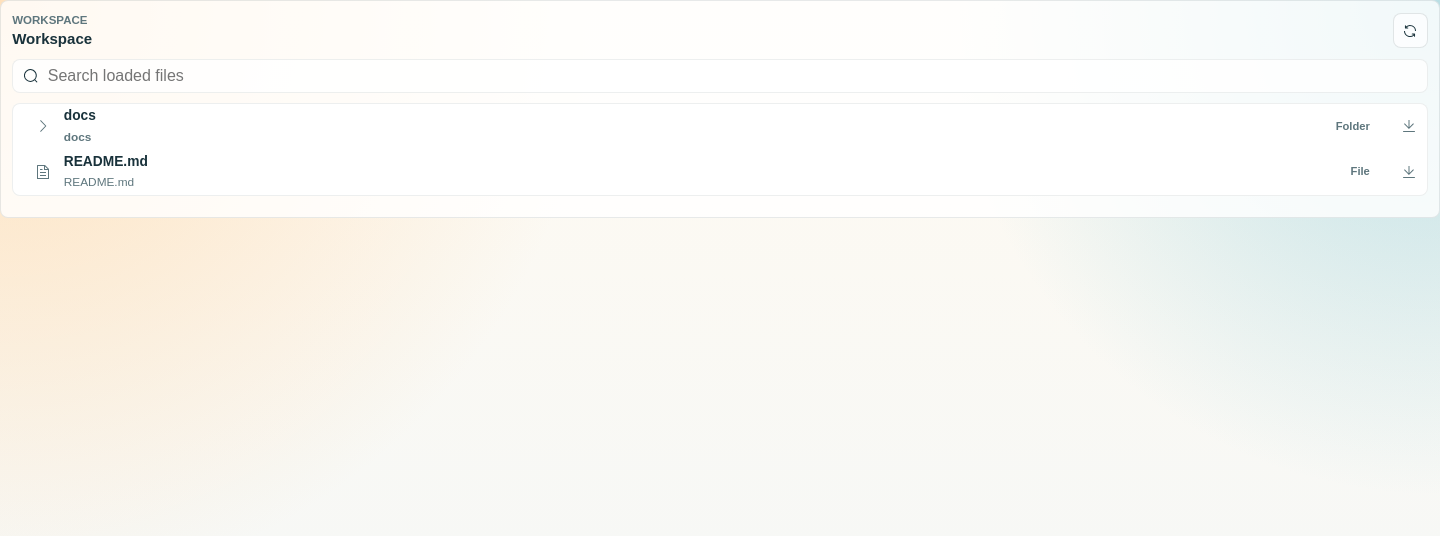
WorkspaceBrowserPanel › lazy loads folder children on first expansion
Expected: the text "guide.md" is not shown
Click the button "docs docs Folder": [80, 116] box [21,104,1391,149]
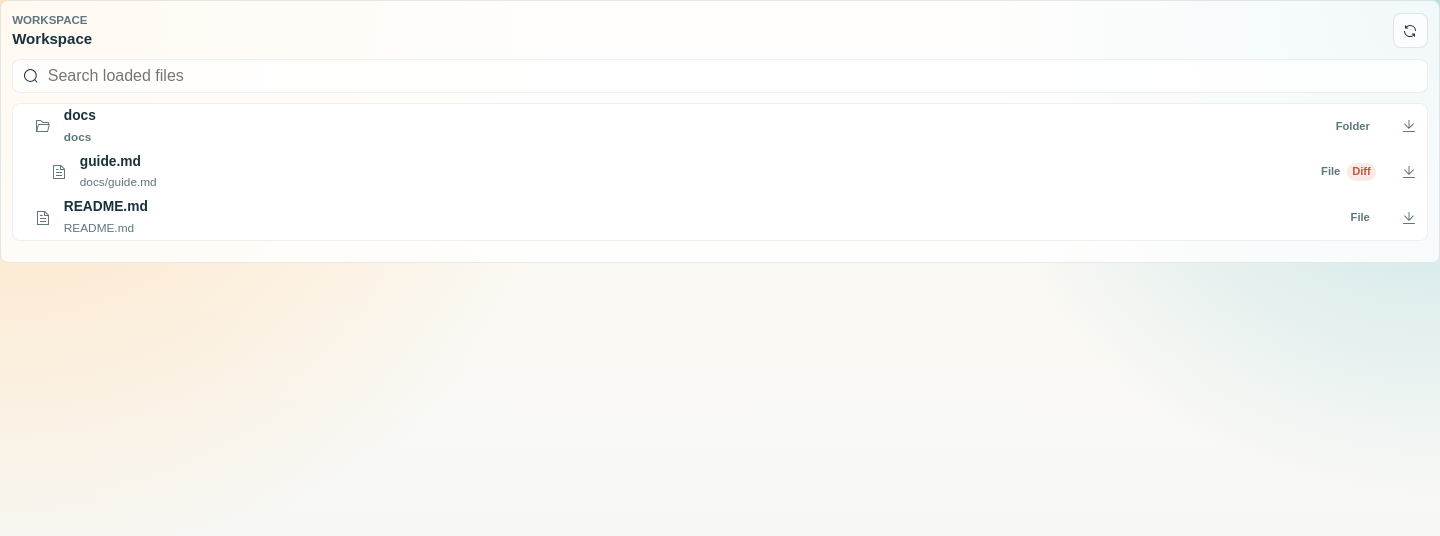
Now the text "guide.md" is shown, box [80,154,141,169]
